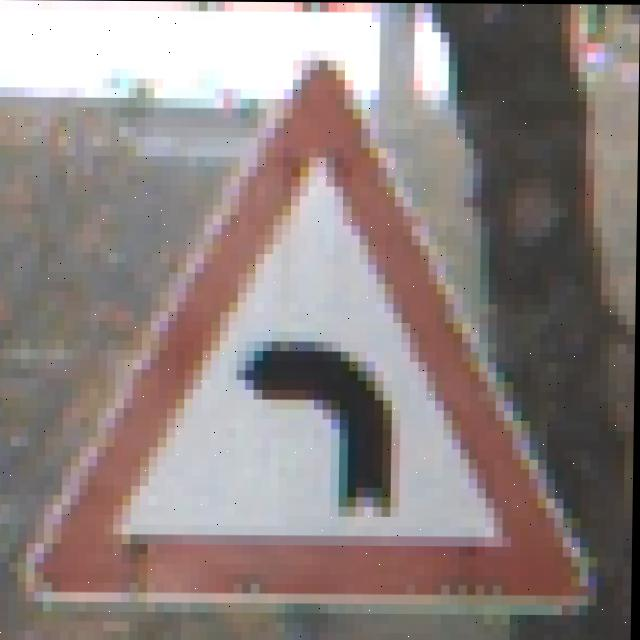left_turn: (81, 42, 591, 602)
